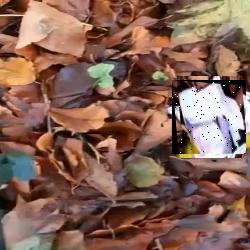restaffald: (172, 80, 246, 154)
